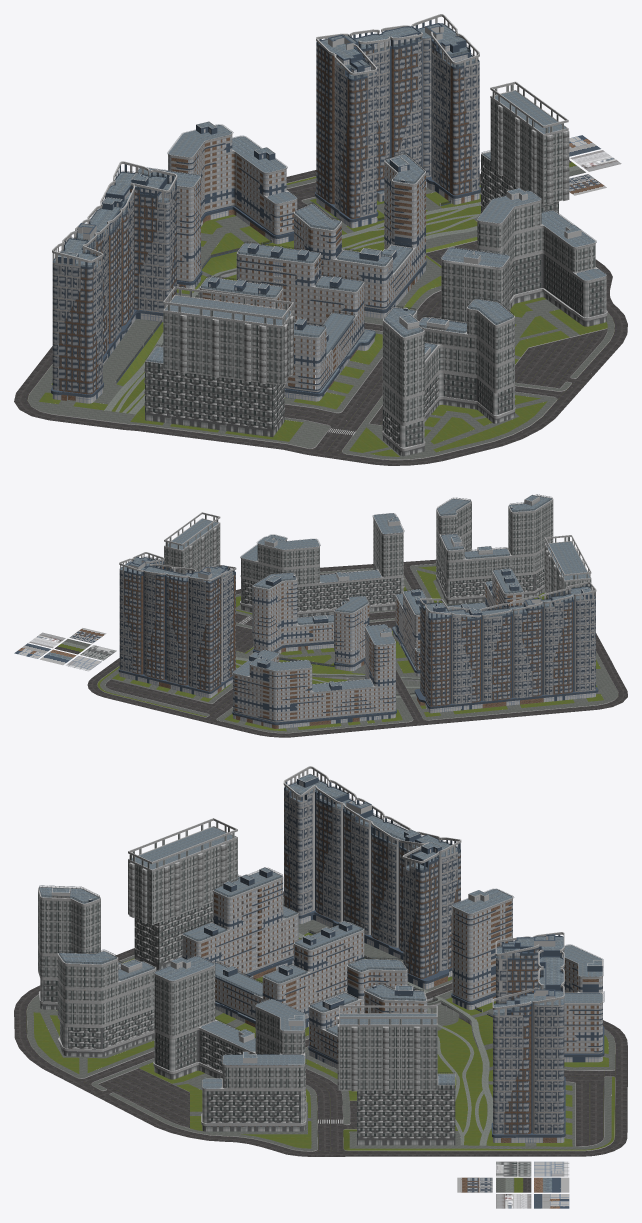
File: modern_city.glb
3 renders of one model, top to bottom at view 1: azimuth 30°, elevation 25°; view 2: azimuth 150°, elevation 25°; view 3: azimuth 270°, elevation 25°, orthographic. The views are drawn at different scales.
Visible parts, largest first — view 1: Plane.057_4_0, bridge_5_0, Cube.192_7_0, Plane.057_3_0, Plane.057_2_0, Plane.057_1_0, dec.001_6_0; view 2: Cube.192_7_0, Plane.057_3_0, Plane.057_2_0, bridge_5_0, Plane.057_4_0, Plane.057_1_0, dec.001_6_0; view 3: Plane.057_4_0, bridge_5_0, Plane.057_3_0, Cube.192_7_0, Plane.057_2_0, Plane.057_1_0, dec.001_6_0.
Part boxes in pixels (x1,y1,x2,y2): Plane.057_4_0: (144,84,606,456); bridge_5_0: (14,160,627,465); Cube.192_7_0: (52,40,606,394); Plane.057_3_0: (51,14,607,451); Plane.057_2_0: (51,14,607,448); Plane.057_1_0: (52,33,607,403); dec.001_6_0: (27,150,621,460); Cube.192_7_0: (69,564,595,706); Plane.057_3_0: (14,499,598,725); Plane.057_2_0: (40,494,598,728); bridge_5_0: (54,559,627,737); Plane.057_4_0: (80,501,591,681); Plane.057_1_0: (66,494,595,728); dec.001_6_0: (29,563,618,733); Plane.057_4_0: (38,821,531,1176); bridge_5_0: (14,891,627,1192); Plane.057_3_0: (38,766,604,1208); Cube.192_7_0: (284,790,564,1192); Plane.057_2_0: (38,766,604,1192); Plane.057_1_0: (39,779,604,1176); dec.001_6_0: (20,897,615,1208).
Bounding box in the file's own units: 49369 × 11750 × 40058.
Materials: 7 (7 with a texture image).
